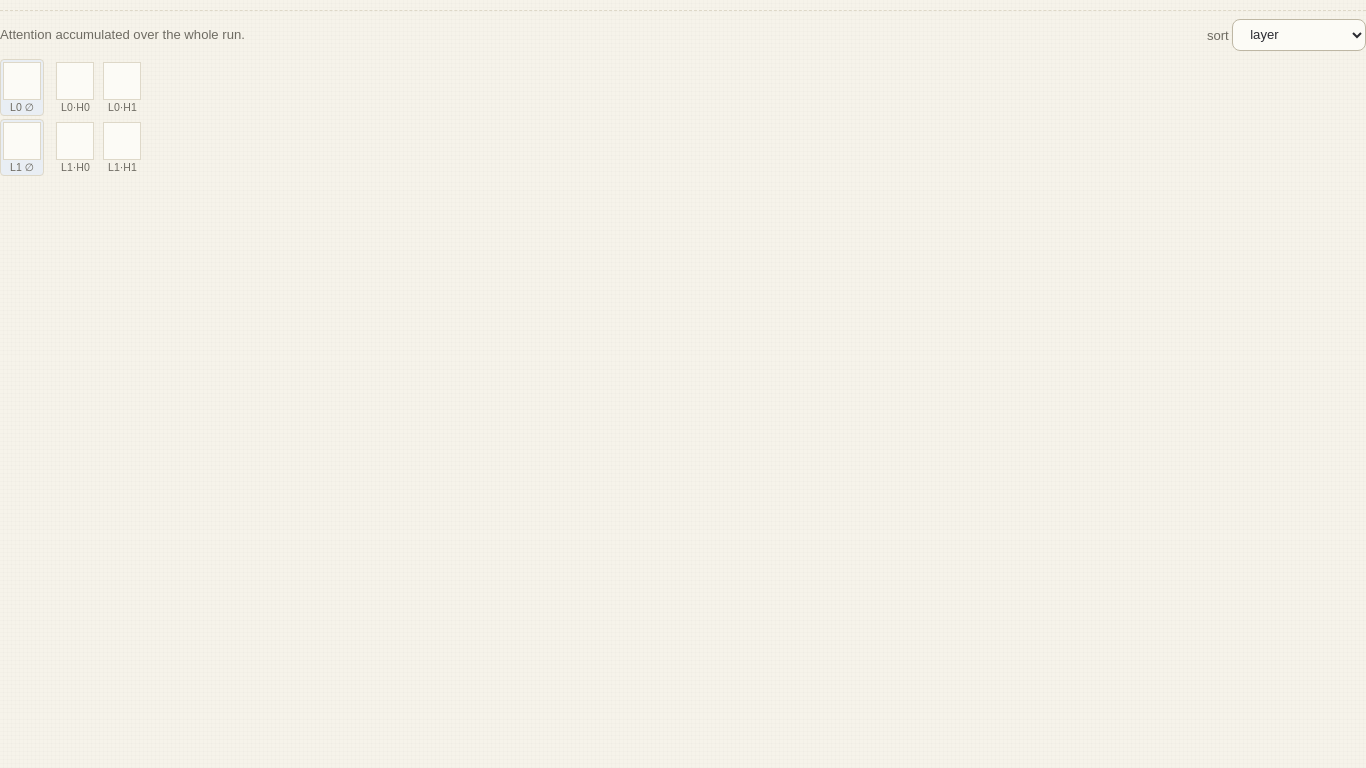
Test: sorting by distinctive reorders cells and drops aggregates
The image size is (1366, 768).
Select "distinctive" in the dropdown with test id "grid-sort" at x=1299, y=35, box [1232,19,1365,51]
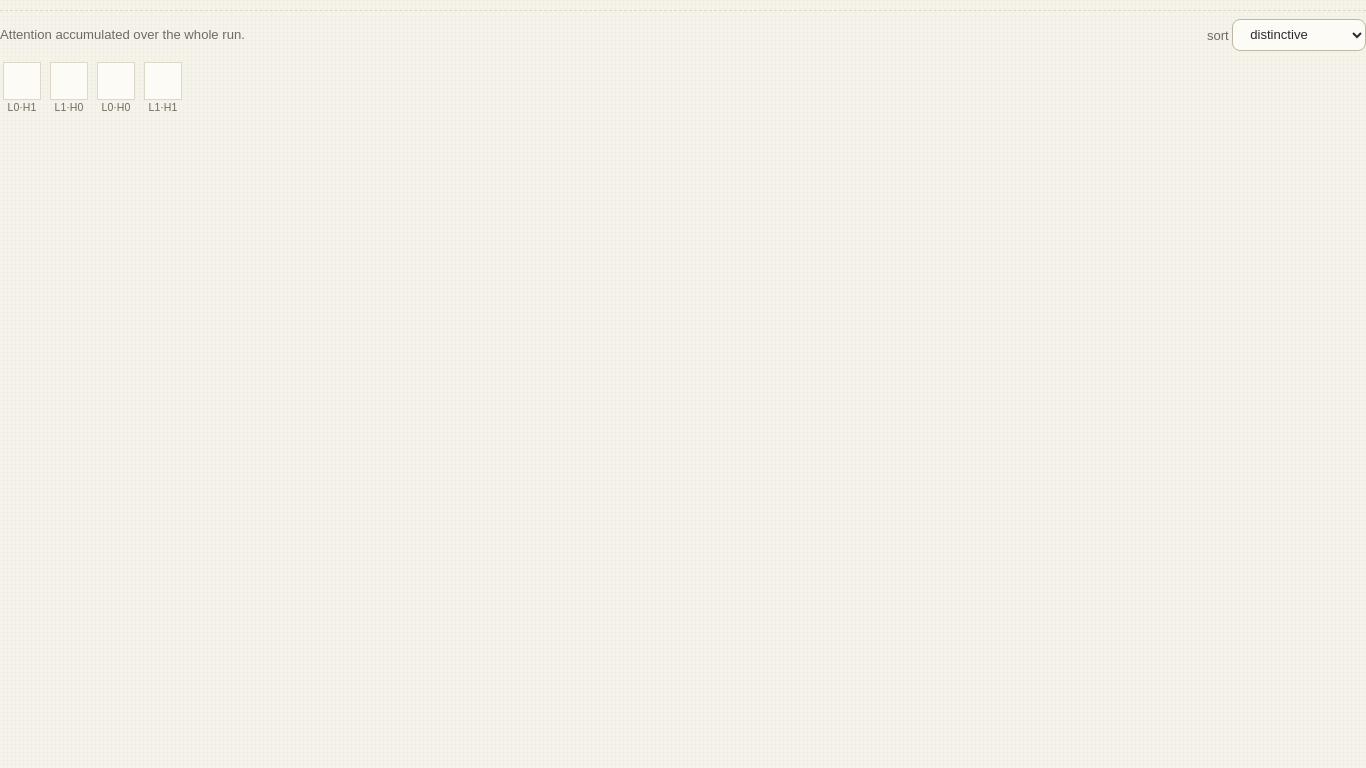
Now the button with test id "grid-cell" reads "L0·H1", box [0,59,44,116]
Now no elements with test id "grid-aggregate" are shown
